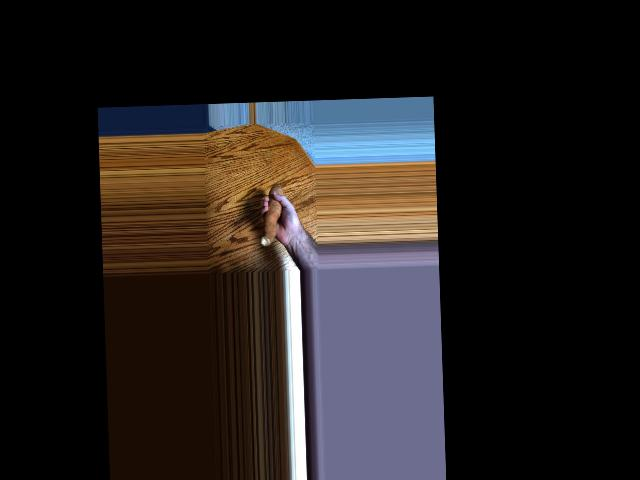sweet_potato: (261, 189, 288, 251)
